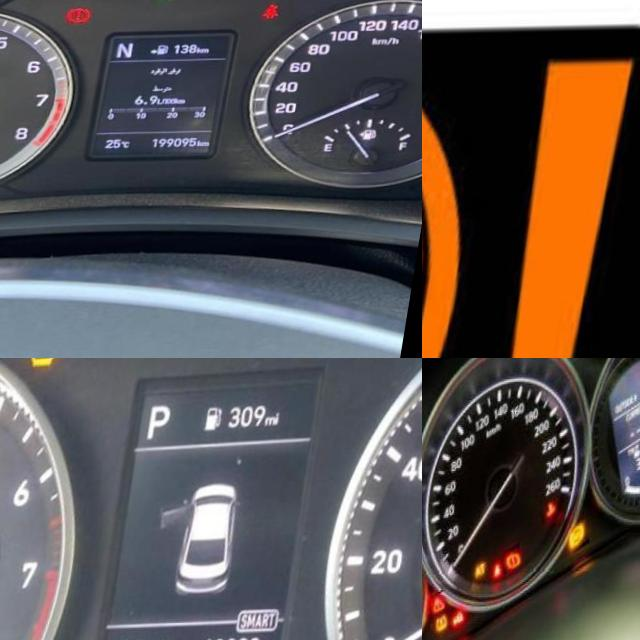Electronic Power Steering: (422, 42, 640, 358)
Seat Belt: (271, 4, 287, 22)
